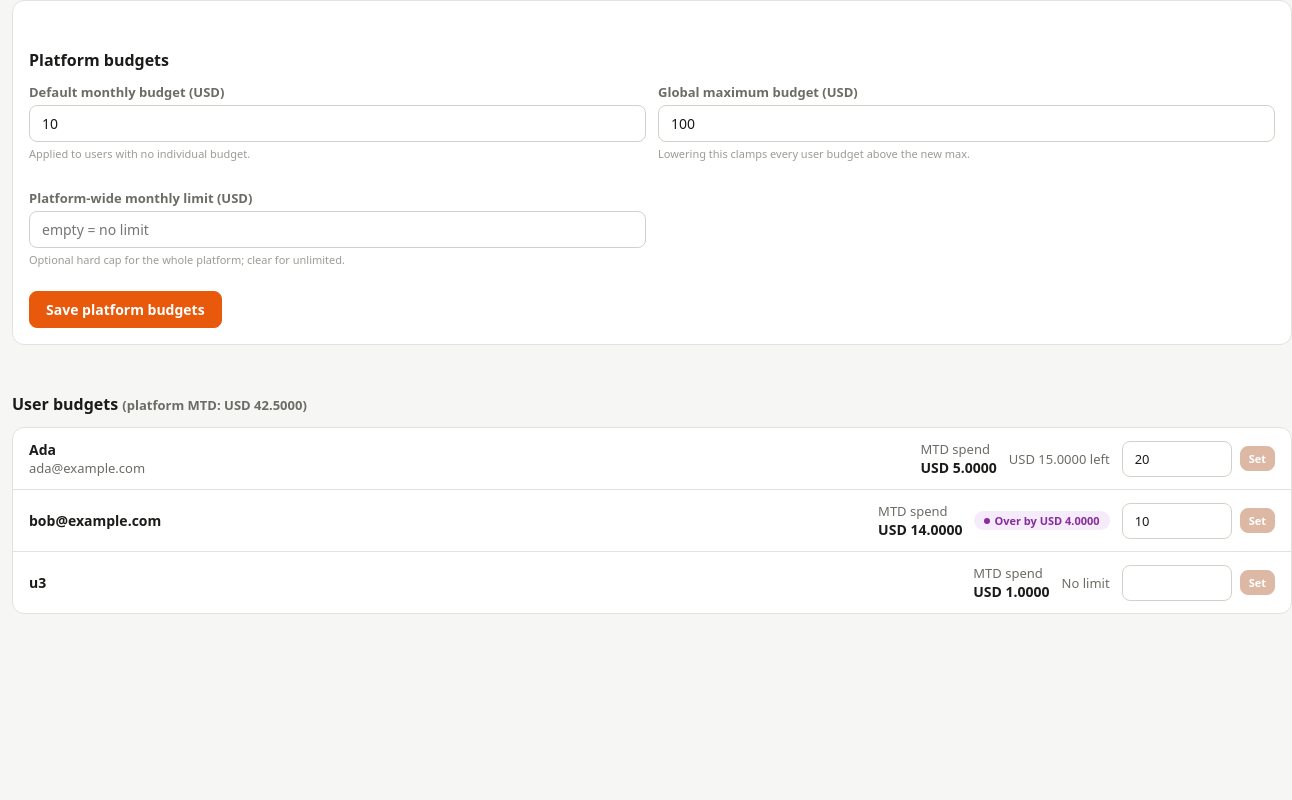
it: User budget rows › rejects values above the platform max without a request
Replace the text in the field named "Monthly budget for Ada" with "500" at (1177, 458), box [1122,440,1232,476]
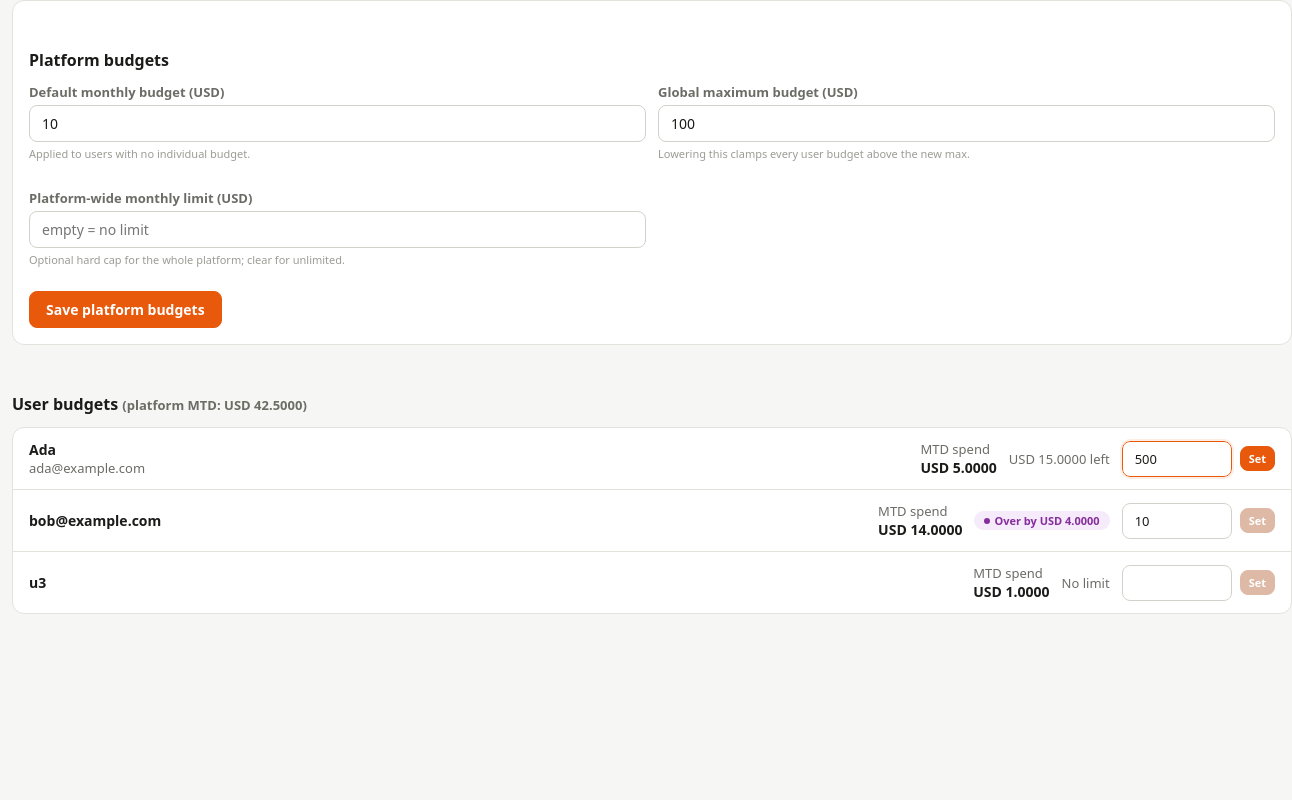
Click the button "Set" next to "USD 15.0000 left" at (1257, 458), box [1240,446,1275,471]
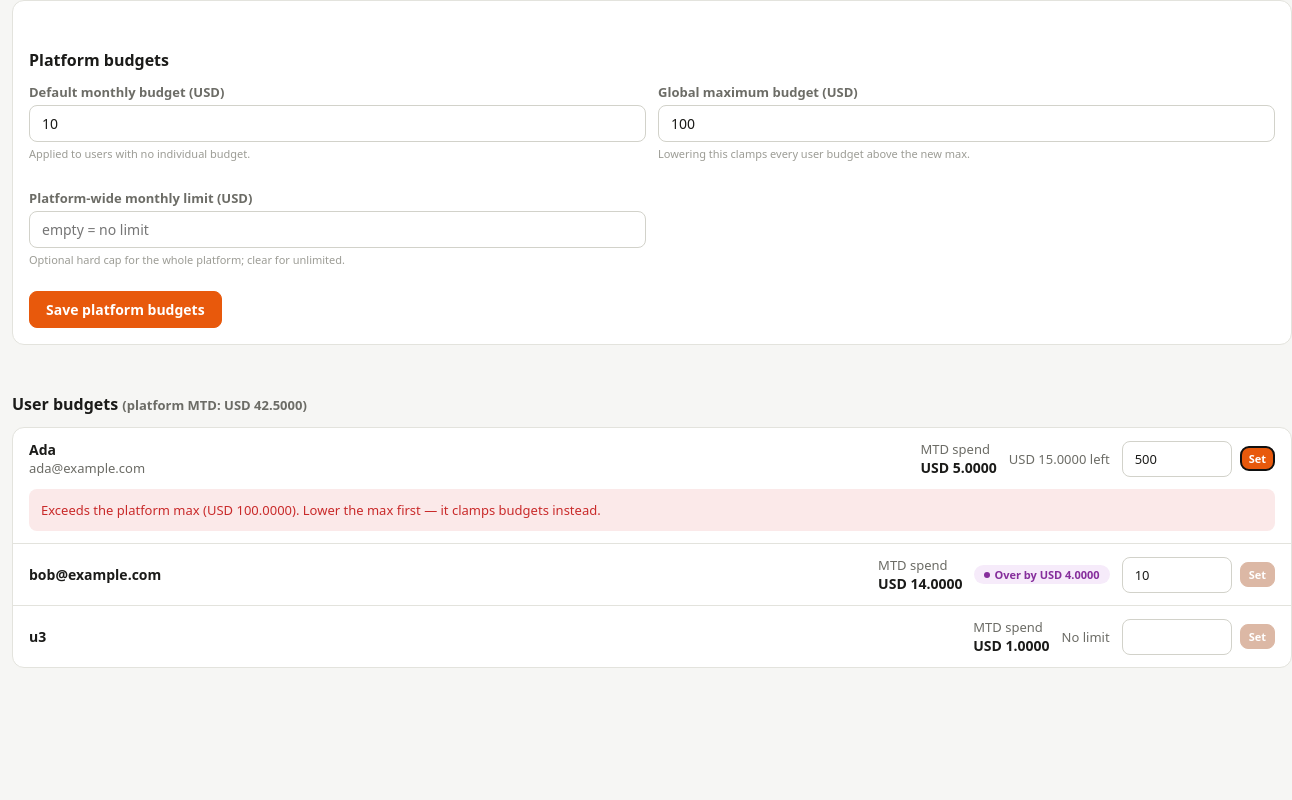
Expected: the text "Exceeds the platform max" is shown, [41,501,601,519]
